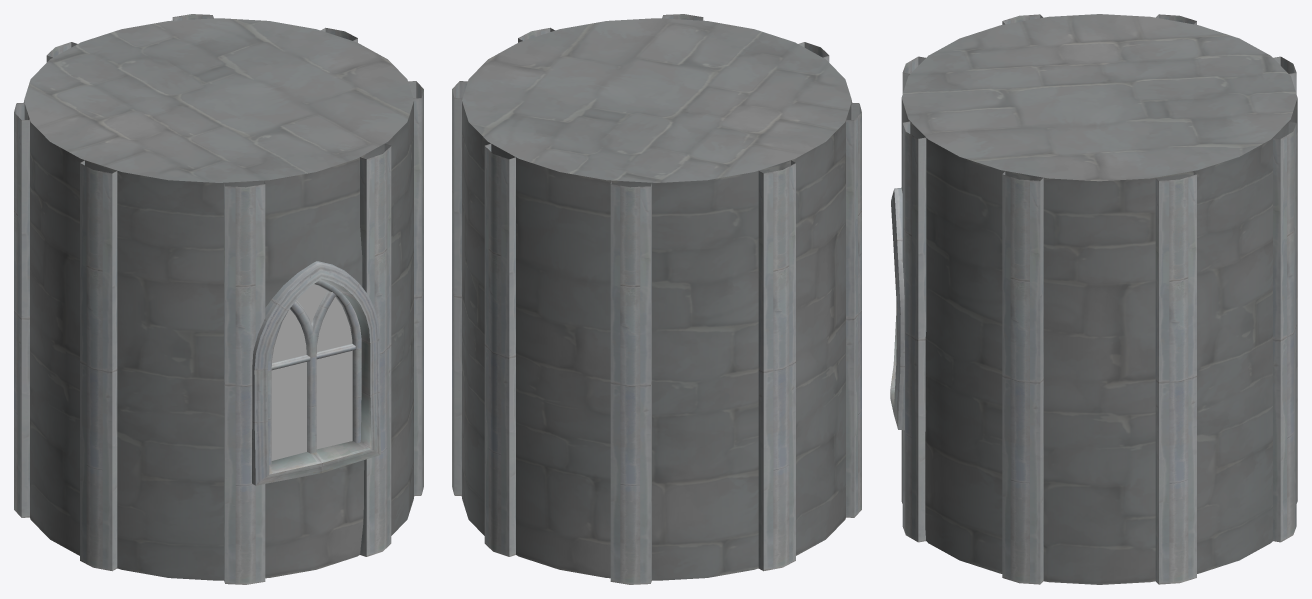
Rendered from SM_TowerD_Window_Window.fbx.
3 renders of one model, left to right at view 1: azimuth 30°, elevation 25°; view 2: azimuth 150°, elevation 25°; view 3: azimuth 270°, elevation 25°, orthographic.
Visible parts, largest first — view 1: SM_TowerD_Window_Window_LOD0; view 2: SM_TowerD_Window_Window_LOD0; view 3: SM_TowerD_Window_Window_LOD0.
Part boxes in pixels (x1,y1,x2,y2): SM_TowerD_Window_Window_LOD0: (14, 14, 423, 584); SM_TowerD_Window_Window_LOD0: (452, 14, 861, 584); SM_TowerD_Window_Window_LOD0: (890, 14, 1297, 584).
Size of what is drawn, in the model's own units: 400 by 450 by 411.
